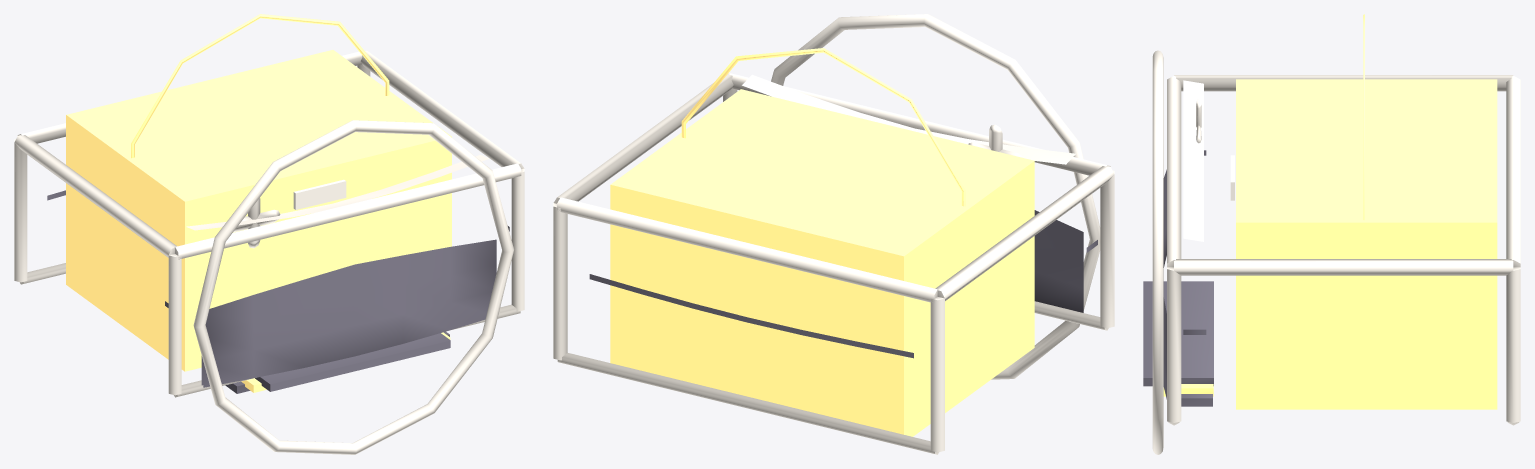
File: triage.glb
The picture shows the model from 3 angles, left to right: view 1: azimuth 30°, elevation 25°; view 2: azimuth 150°, elevation 25°; view 3: azimuth 270°, elevation 25°; orthographic projection. The views are drawn at different scales.
Parts seen in each view (by area): view 1: triage:far:surface:0, triage:near:surface:2, triage:near:surface:0, triage:near:surface:1, triage:far:surface:1; view 2: triage:far:surface:0, triage:near:surface:2, triage:near:surface:0, triage:near:surface:1; view 3: triage:far:surface:0, triage:near:surface:2, triage:near:surface:0, triage:near:surface:1.
Boxes of the visible parts, left/top/right/bottom form: triage:far:surface:0: left=66, top=50, right=451, bottom=371; triage:near:surface:2: left=14, top=50, right=524, bottom=454; triage:near:surface:0: left=47, top=190, right=509, bottom=393; triage:near:surface:1: left=131, top=14, right=450, bottom=392; triage:far:surface:1: left=293, top=179, right=346, bottom=209; triage:far:surface:0: left=610, top=89, right=1034, bottom=436; triage:near:surface:2: left=553, top=14, right=1114, bottom=454; triage:near:surface:0: left=589, top=210, right=1097, bottom=358; triage:near:surface:1: left=681, top=48, right=965, bottom=206; triage:far:surface:0: left=1236, top=79, right=1497, bottom=409; triage:near:surface:2: left=1152, top=50, right=1520, bottom=454; triage:near:surface:0: left=1143, top=150, right=1213, bottom=406; triage:near:surface:1: left=1163, top=14, right=1364, bottom=396.
Size of the model in its own units: 9.86 by 9.86 by 8.23.
